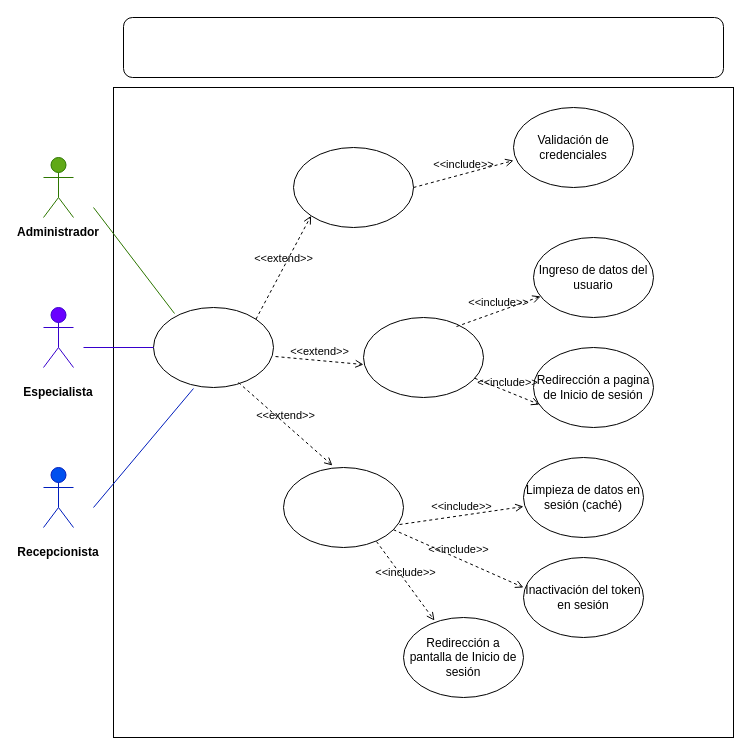
The diagram is 751 pixels wide and 755 high, and some of its shapes have lost their labels. Each missing label, with the centre of its shape:
Cerrar sesión: (343,507)
Diagrama de caso de uso de Módulo de Seguridad: (423,47)
Iniciar sesión: (353,187)
Registrar Usuario: (423,357)
Seguridad (Autenticación y accesos): (213,347)
